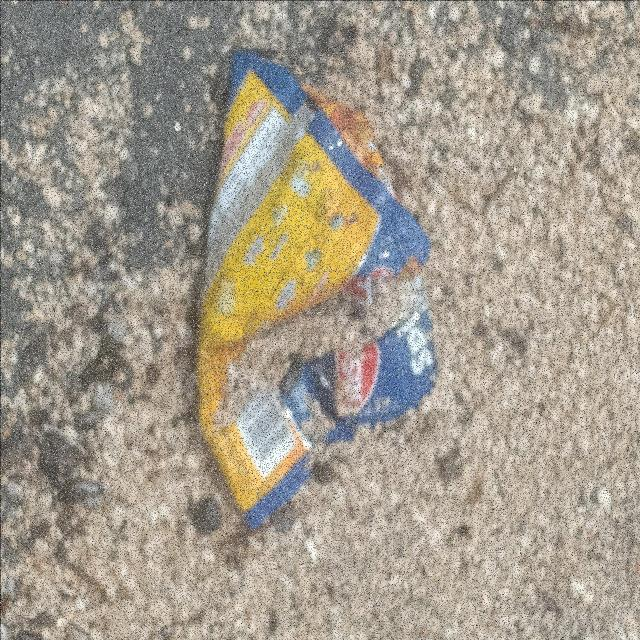plastic_waste: (198, 47, 438, 530)
